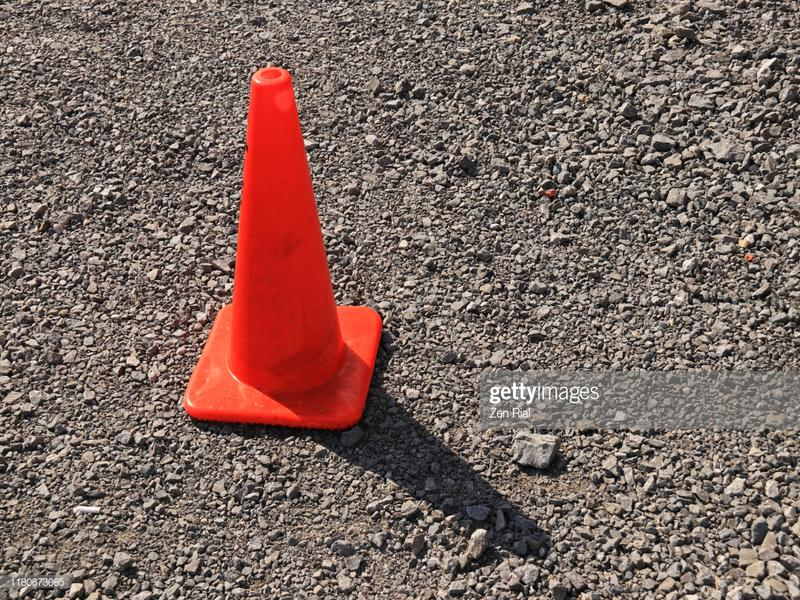Cone: (183, 66, 384, 430)
